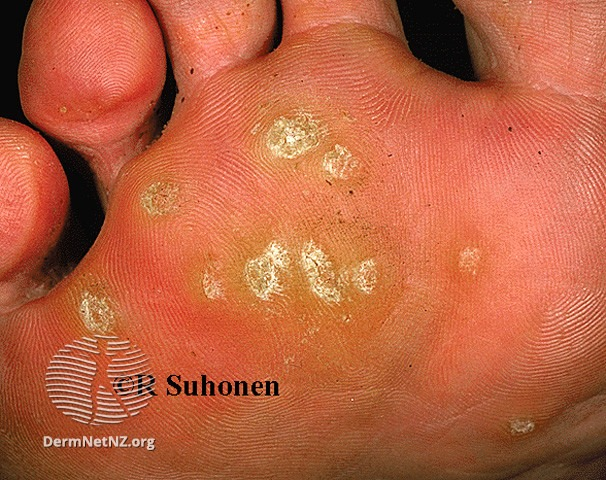Warts: (259, 96, 331, 171), (235, 231, 297, 316), (295, 229, 345, 312), (320, 127, 371, 195), (67, 282, 125, 339), (131, 176, 192, 222), (452, 236, 495, 286), (195, 260, 235, 310), (350, 249, 387, 299), (502, 409, 537, 449)
